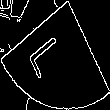L_NE: (33, 28, 77, 82)
